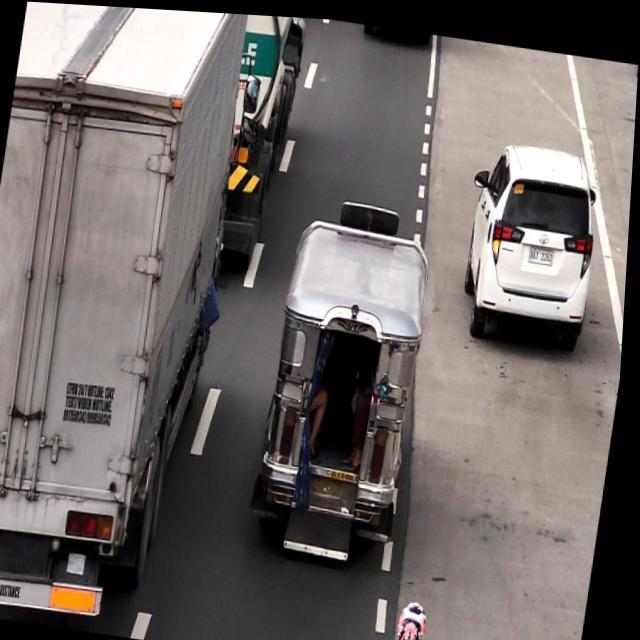Car: (461, 135, 598, 331)
Jeep: (258, 189, 443, 558)
License-Plate: (530, 238, 558, 260)
Truck: (0, 0, 253, 625)
